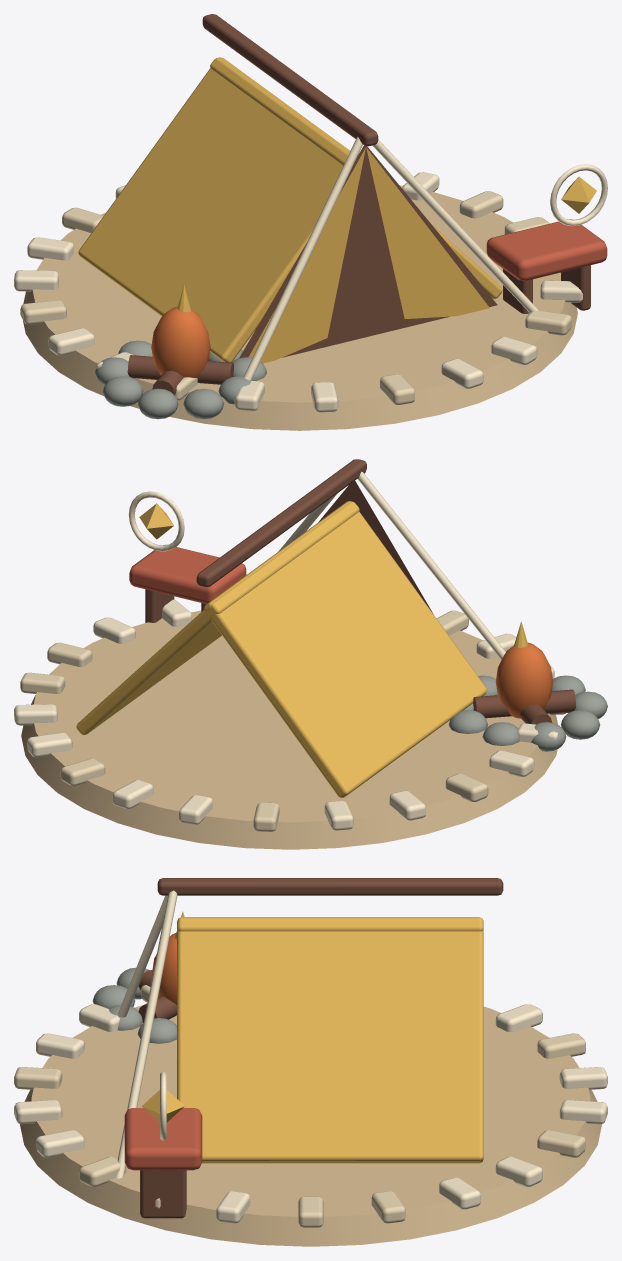
The model's file is camp.glb.
3 renders of one model, top to bottom at view 1: azimuth 30°, elevation 25°; view 2: azimuth 150°, elevation 25°; view 3: azimuth 270°, elevation 25°, orthographic. The views are drawn at different scales.
Parts seen in each view (by area): view 1: building-camp, landmark-camp, treasure-camp; view 2: building-camp, landmark-camp, treasure-camp; view 3: building-camp, landmark-camp, treasure-camp.
Boxes of the visible parts, bbox=[...] form: building-camp: bbox=[78, 14, 607, 419]; landmark-camp: bbox=[14, 172, 582, 430]; treasure-camp: bbox=[550, 164, 607, 226]; building-camp: bbox=[76, 459, 607, 797]; landmark-camp: bbox=[14, 599, 565, 849]; treasure-camp: bbox=[128, 491, 184, 551]; building-camp: bbox=[92, 878, 503, 1218]; landmark-camp: bbox=[14, 985, 607, 1246]; treasure-camp: bbox=[142, 1071, 184, 1140].
Bounding box in the file's own units: 1.56 × 0.693 × 1.53.
